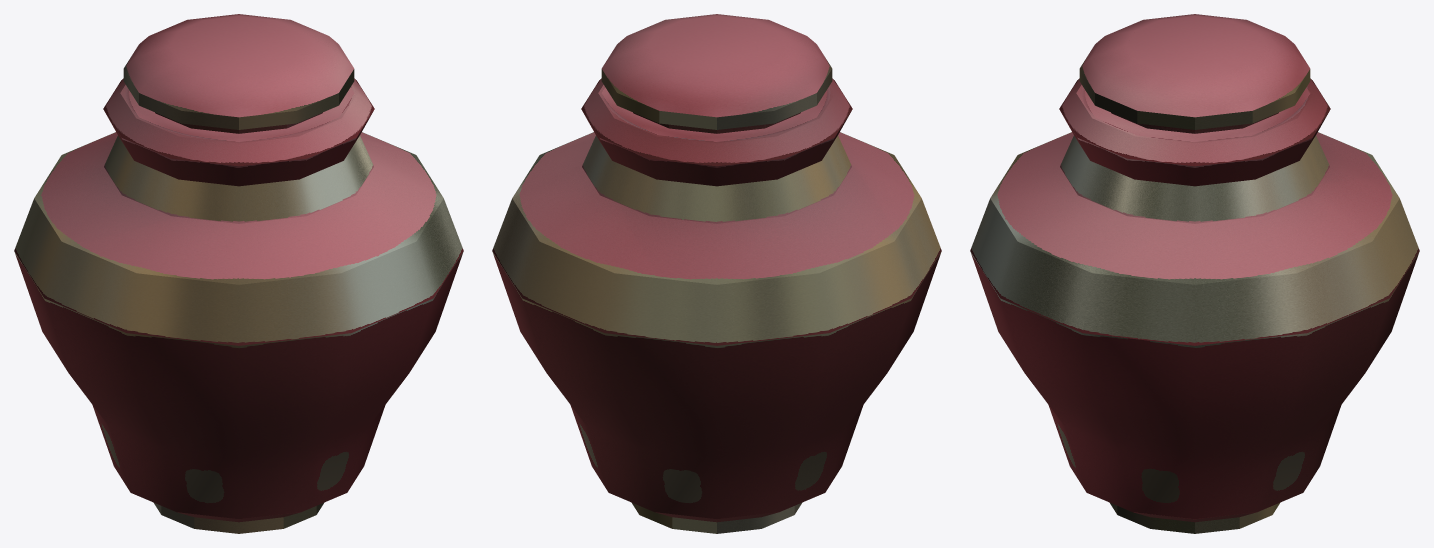
The model's file is urn03.fbx.
3 renders of one model, left to right at view 1: azimuth 30°, elevation 25°; view 2: azimuth 150°, elevation 25°; view 3: azimuth 270°, elevation 25°, orthographic.
Visible parts, largest first — view 1: urn.001; view 2: urn.001; view 3: urn.001.
Part boxes in pixels (<box>): urn.001: <box>14,14,463,533</box>; urn.001: <box>492,14,941,533</box>; urn.001: <box>970,14,1419,533</box>.
Size of the model in its own units: 0.2731 by 0.2731 by 0.3019.
1 material, 1 textured.
